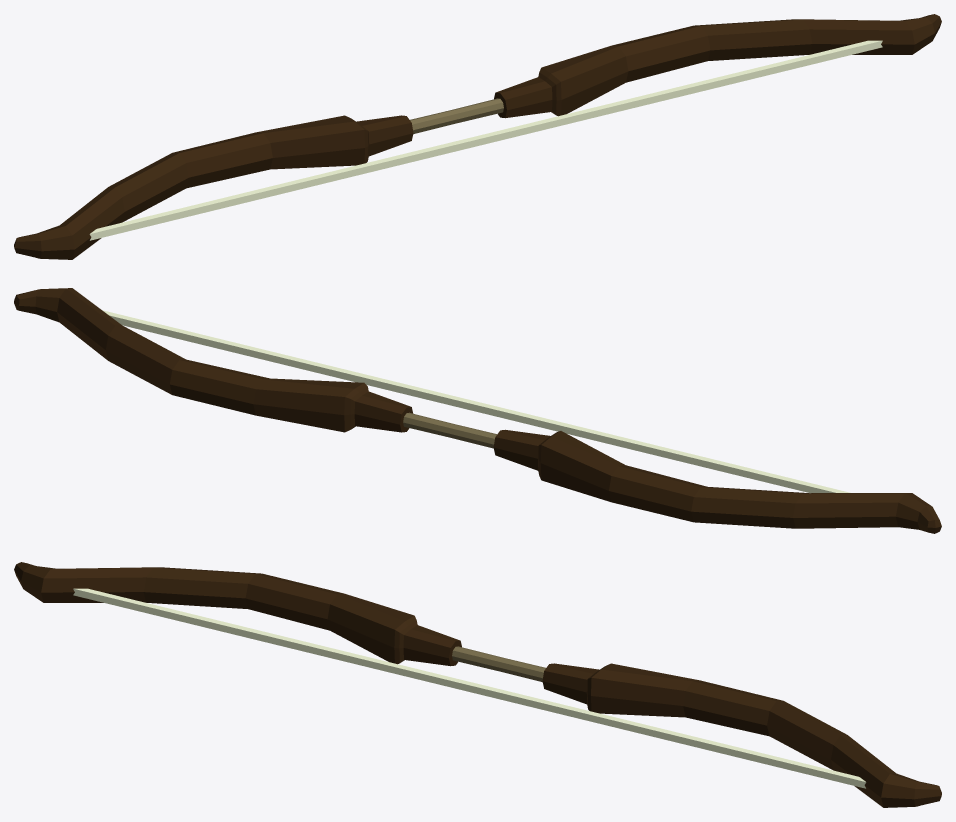
The model's file is bow.fbx.
3 renders of one model, top to bottom at view 1: azimuth 30°, elevation 25°; view 2: azimuth 150°, elevation 25°; view 3: azimuth 330°, elevation 25°, orthographic.
Parts seen in each view (by area): view 1: Bow; view 2: Bow; view 3: Bow.
Part boxes in pixels (bbox=[...]): Bow: bbox=[14, 14, 941, 259]; Bow: bbox=[14, 288, 941, 533]; Bow: bbox=[14, 562, 941, 807].
Size of the model in its own units: 640 by 24.83 by 76.96.
